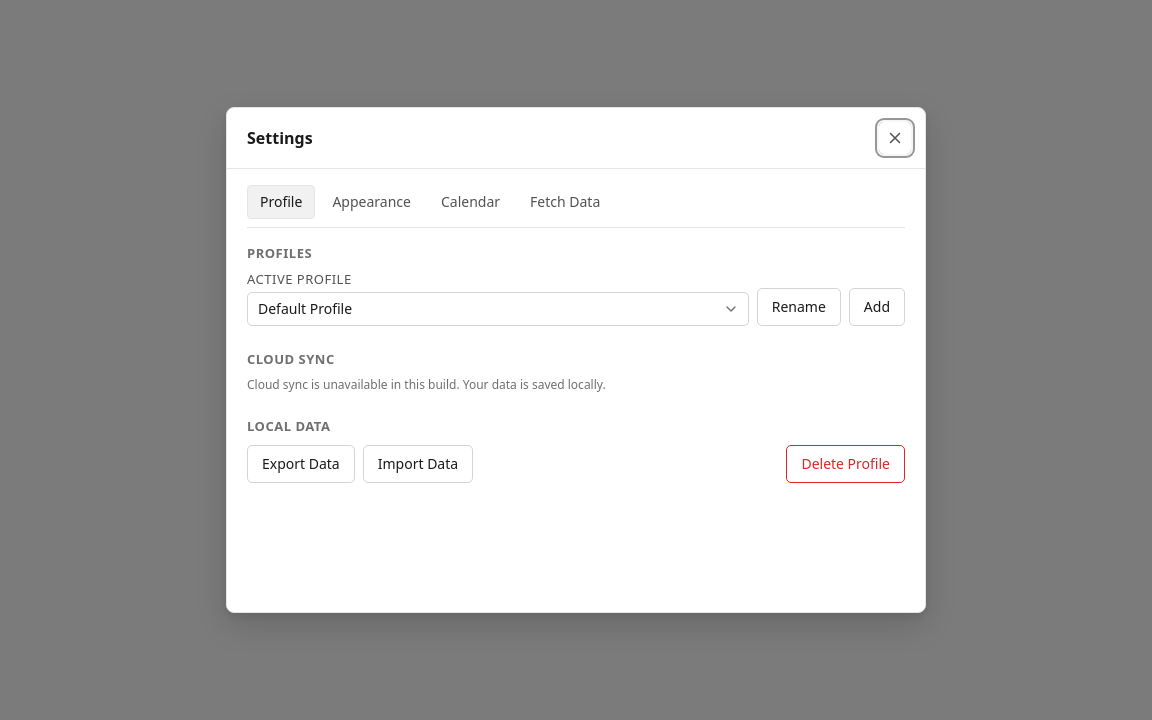
Test: SettingsDialog — Profile tab › shows the active profile and creates a new one
This screenshot has width=1152, height=720.
Check: the dropdown labelled "Active profile" shows "Default Profile", box [247,292,749,326]
Step 1. Click the button with aria-label "Add profile" → click(877, 307), box [849,288,905,326]
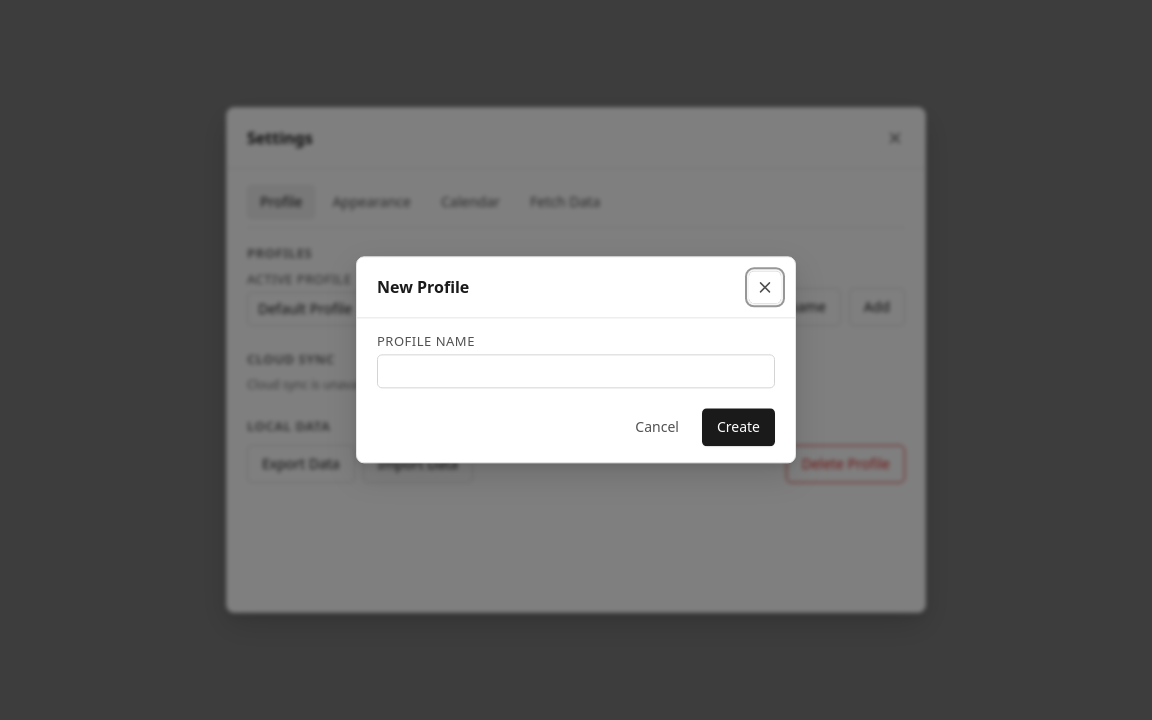
Step 2. Type "Second Degree" into the field labelled "Profile name" → (576, 372), box [377,355,775,389]
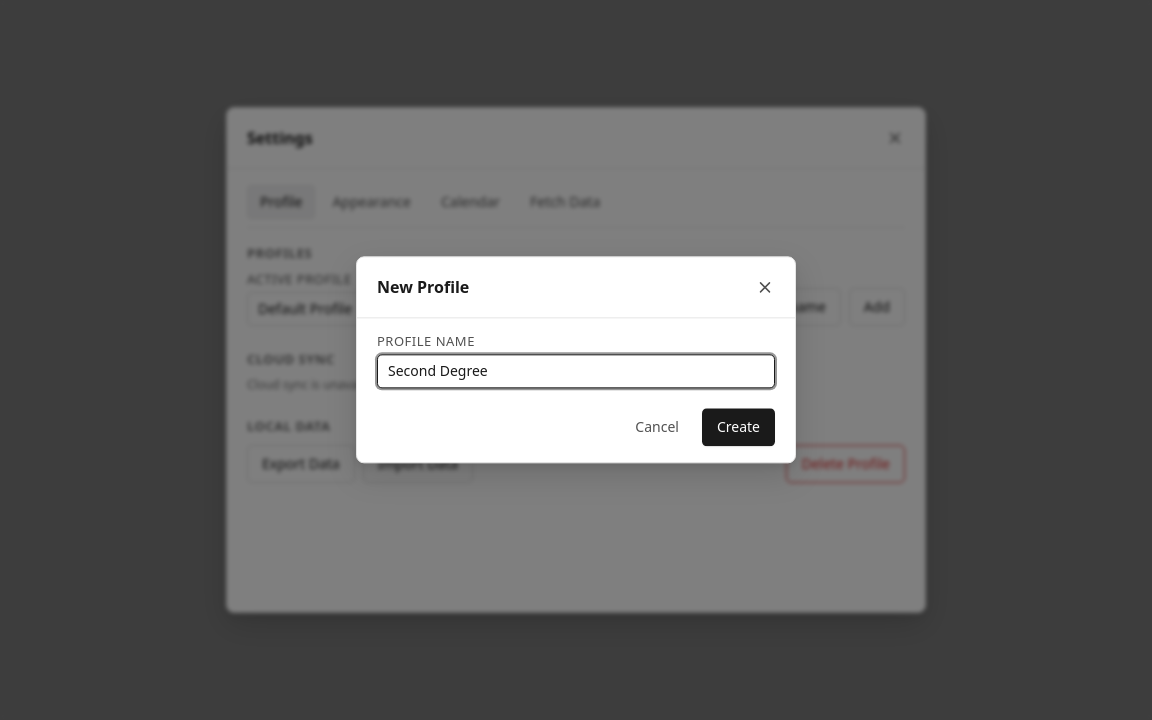
Step 3. Click the button "Create" → click(738, 428), box [702,409,775,447]
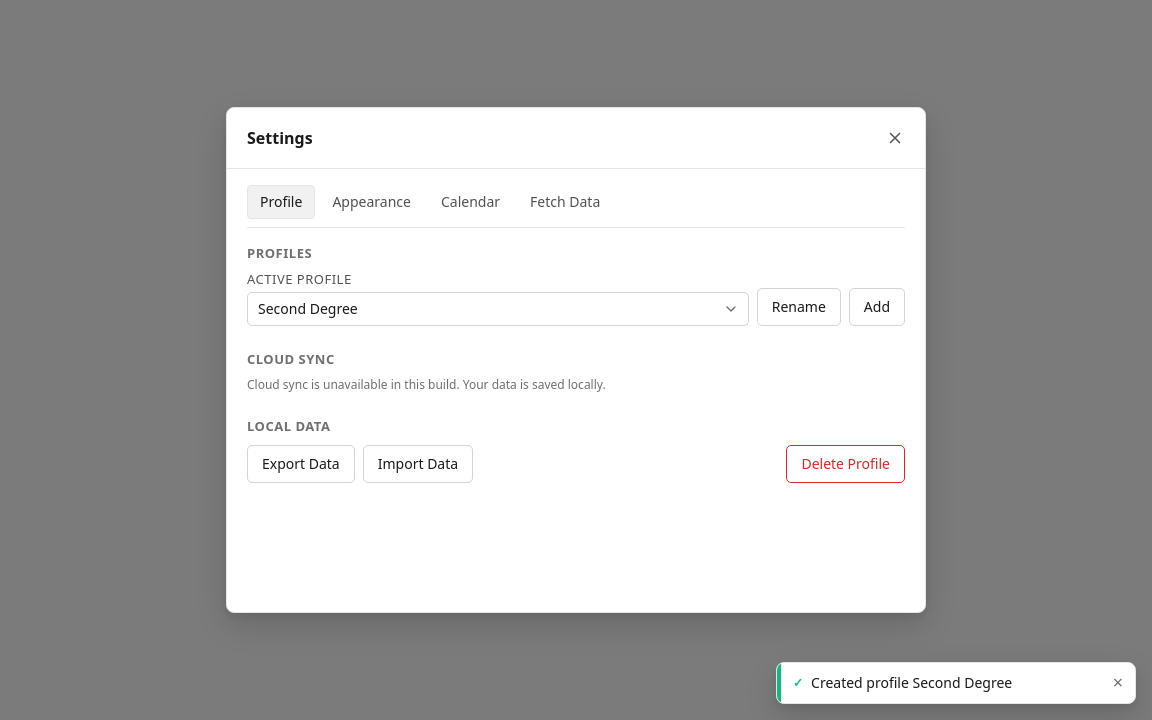
Check: the text "Created profile Second Degree" is shown, box [811,673,1012,692]
